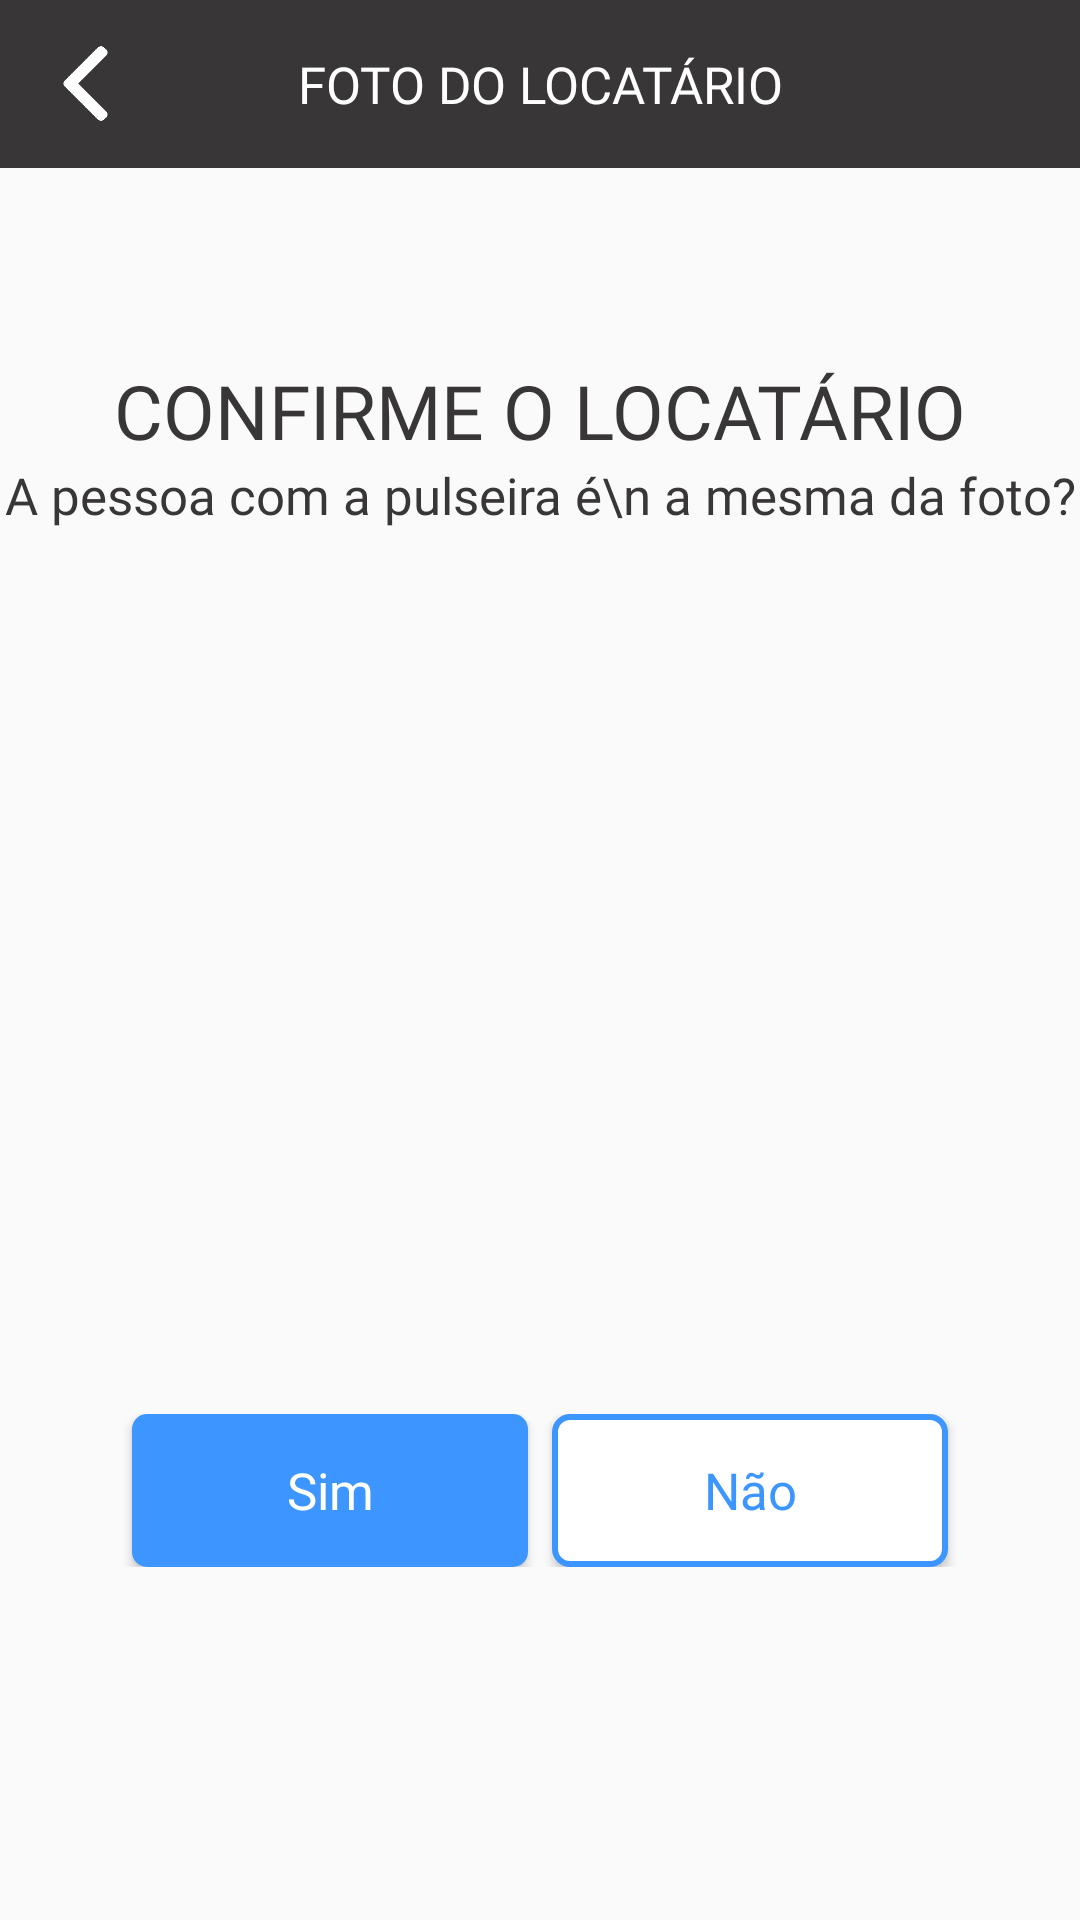

Where icons sit on this 1080px×1920px app screen, as (left=x1, top=y1, right=x2, bottom=y2):
left arrow: (left=63, top=46, right=108, bottom=121)
